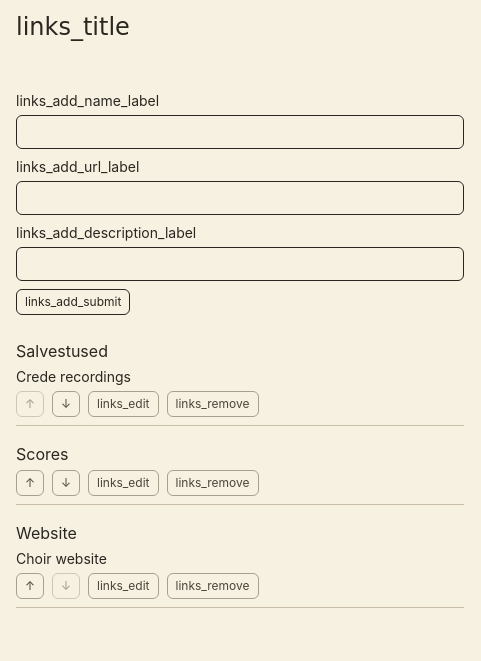
Scenario: #323 — FAILED: truthful alert, retry available, screen restored to the SERVER order › when the post-failure re-read ALSO fails, the alert drops the "order the server holds" claim
Click the button with test id "links-move-down" below "Scores" at (66, 483), box [52,470,80,496]
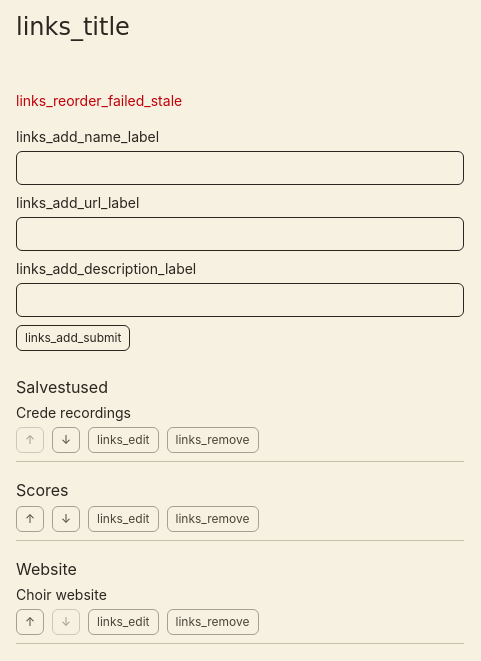
Check: the button with test id "links-move-down" below "Scores" is enabled, box [52,506,80,532]
Check: the message "links_reorder_failed_stale" is shown, box [16,92,182,109]
